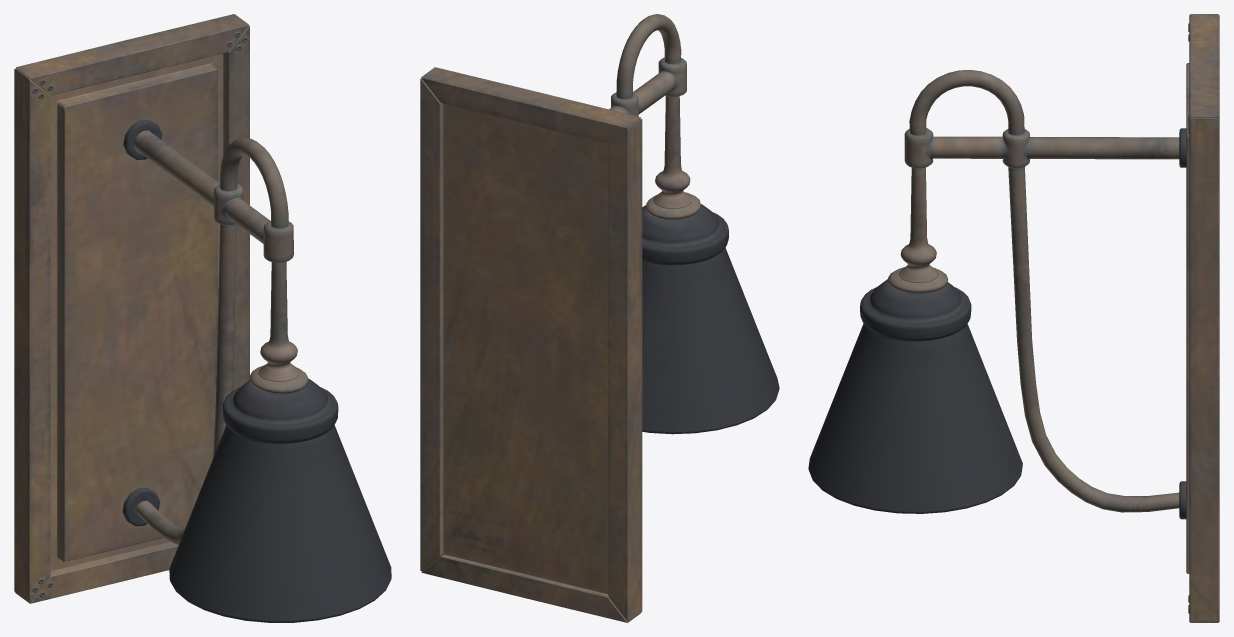
3 renders of one model, left to right at view 1: azimuth 30°, elevation 25°; view 2: azimuth 150°, elevation 25°; view 3: azimuth 270°, elevation 25°, orthographic. The views are drawn at different scales.
Visible parts, largest first — view 1: industrial_wall_sconce; view 2: industrial_wall_sconce; view 3: industrial_wall_sconce.
Part boxes in pixels (x1,y1,x2,y2): industrial_wall_sconce: (14,14,391,622); industrial_wall_sconce: (420,14,779,622); industrial_wall_sconce: (808,14,1219,622).
Size of the model in its own units: 0.1503 by 0.3418 by 0.2516.
Materials: 2 (2 with a texture image).
